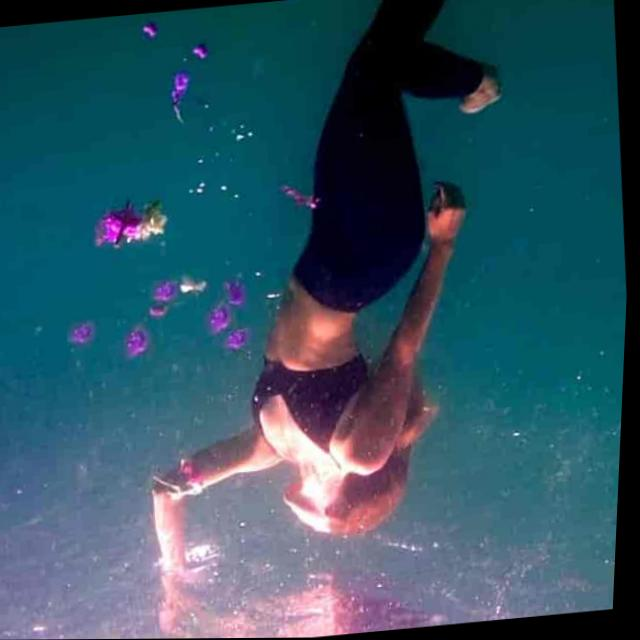human: (92, 0, 583, 639)
